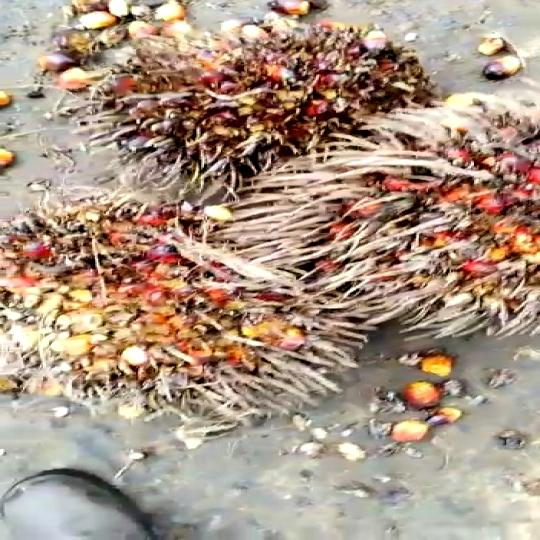terlalu masak: (0, 193, 387, 428), (65, 20, 462, 181)
